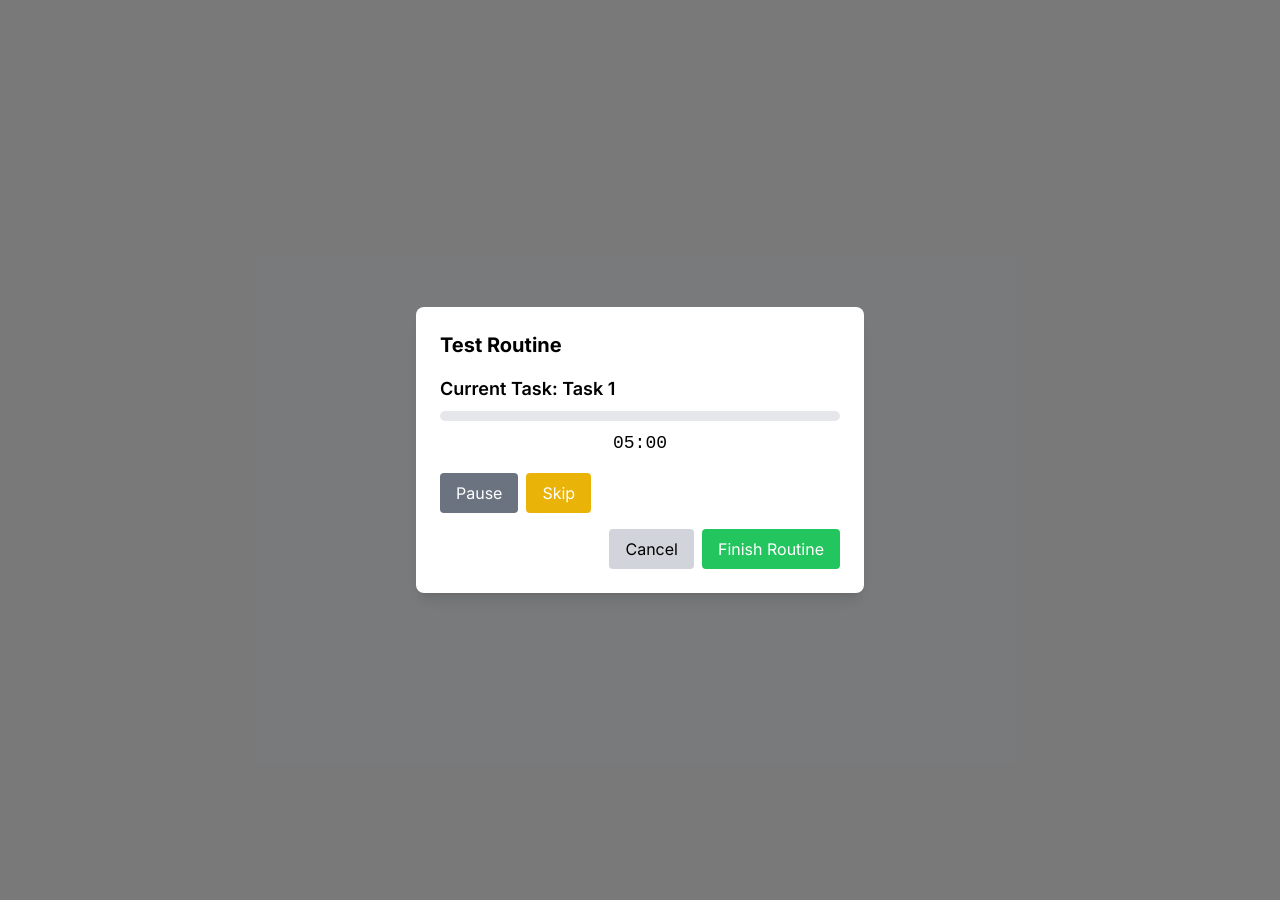
Test: ExecutionMode › skips to next task
Step 1. Click the button "Skip" → [559, 493], box [526, 473, 591, 513]
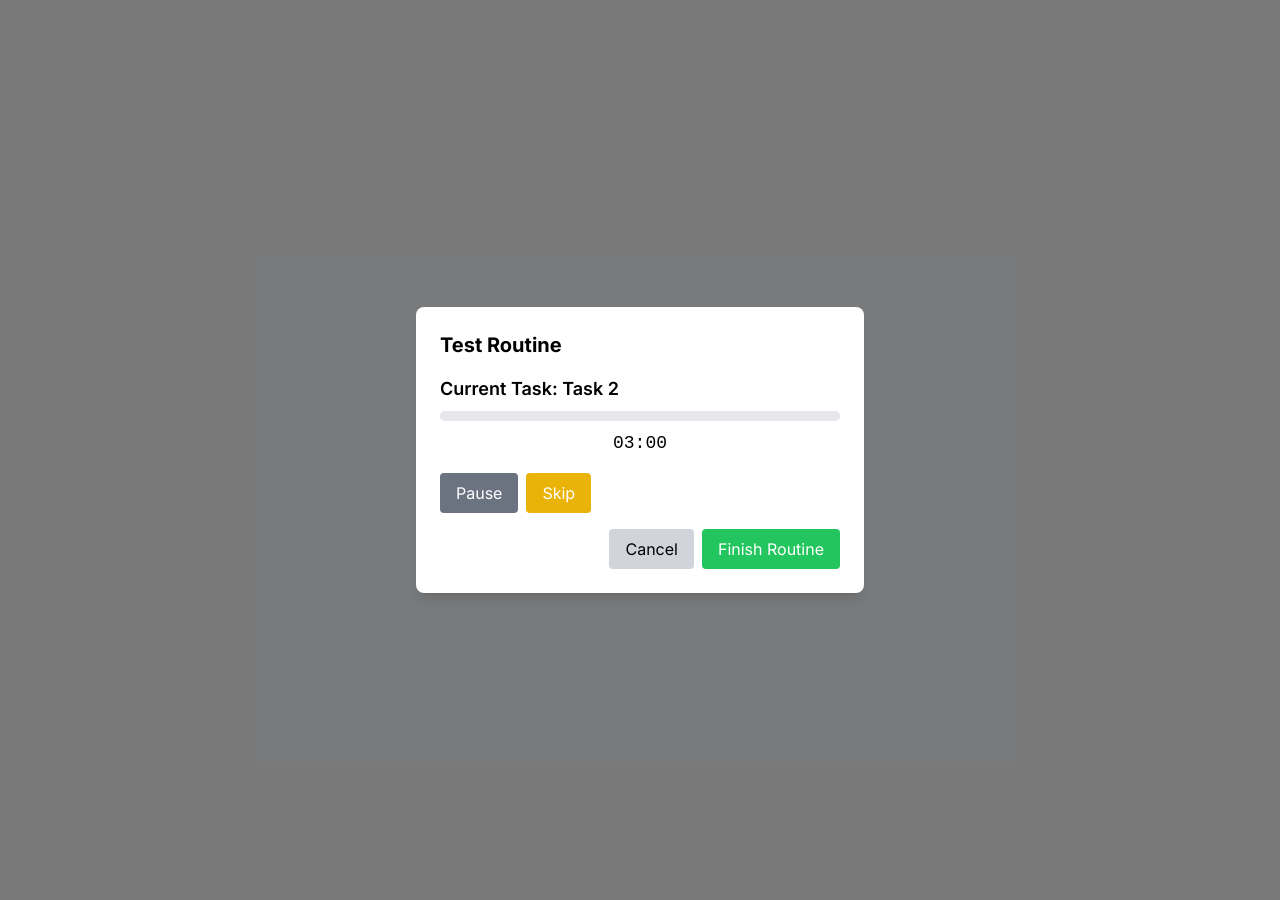
Expected: the heading "Current Task: Task 2" is shown, [440, 378, 619, 399]
Expected: the text "03:00" is shown, [613, 433, 667, 453]
